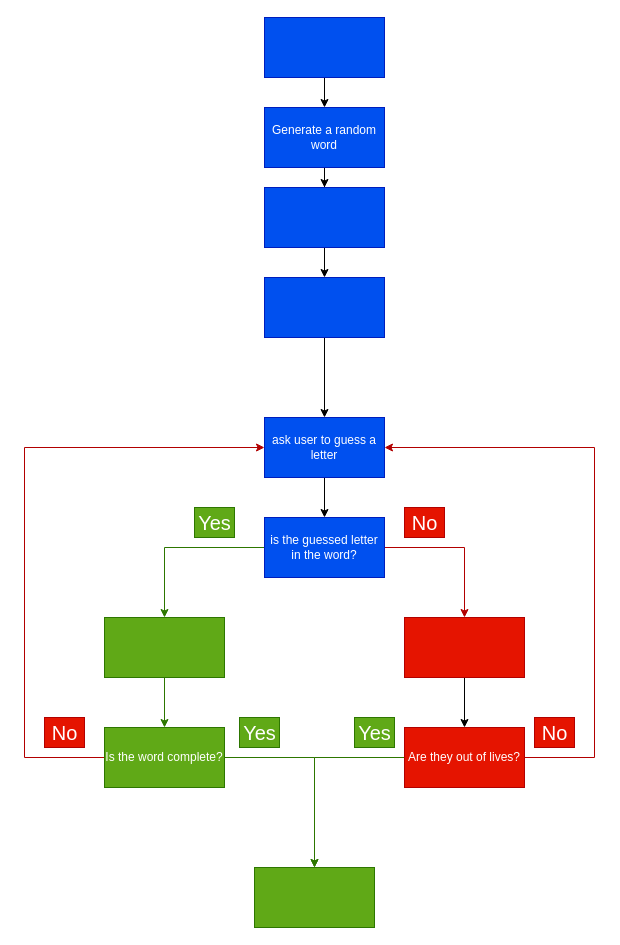
The diagram is 620 pixels wide and 945 high, and some of its shapes have lost their labels. The shapes that lost their labels are listed below. From the top down, each one's centre as x and y in pixels, then its label:
At (x=324, y=47): "Start".
At (x=324, y=217): "get the amount of letters in the word".
At (x=324, y=307): "create as many blanks as letters in the word".
At (x=164, y=647): "replace blank with the letter".
At (x=464, y=647): "remove a life".
At (x=314, y=897): "Game Over".
